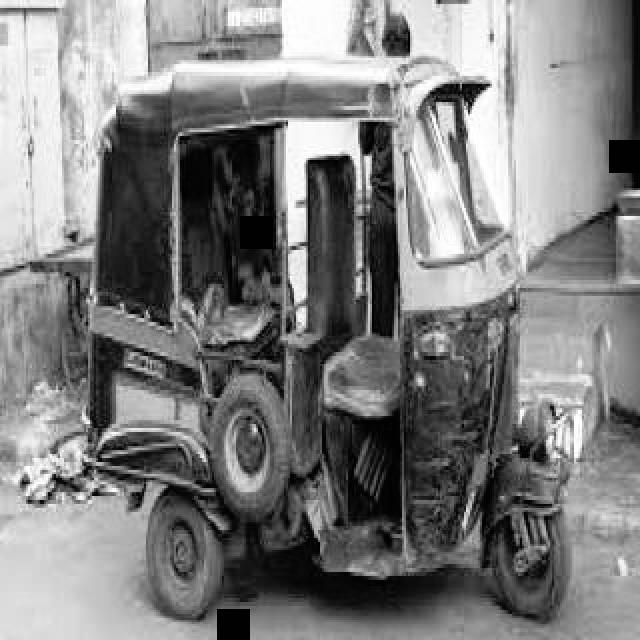Auto-Rickshaw: (64, 56, 600, 624)
